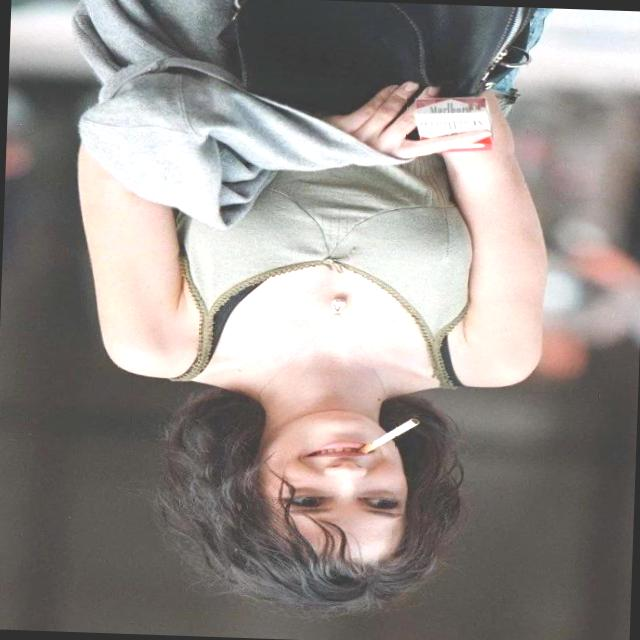cigarette: (340, 406, 434, 457)
